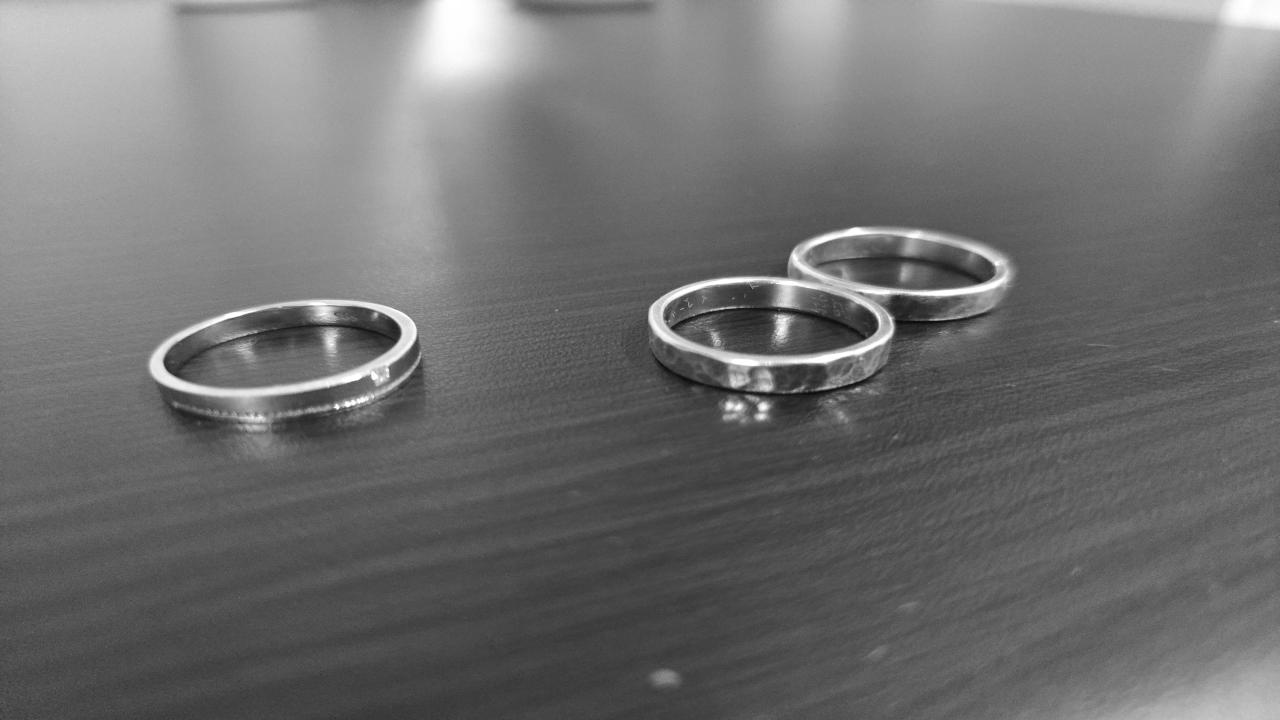ring: (145, 296, 427, 424), (646, 276, 898, 394), (785, 225, 1021, 322)
